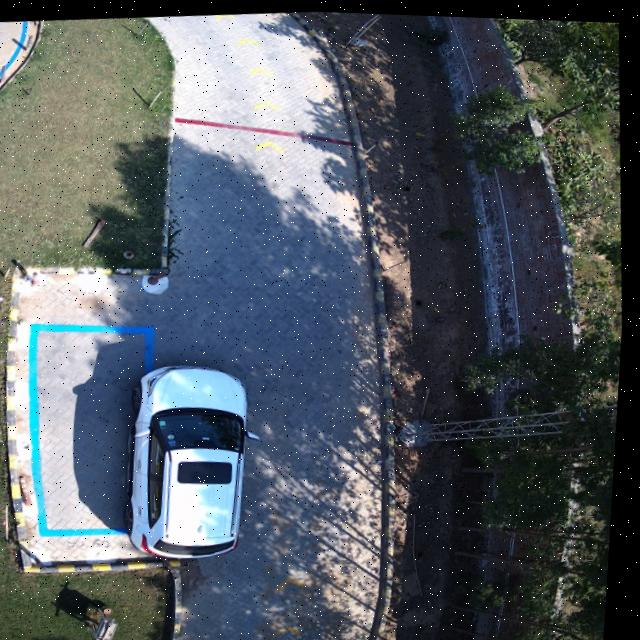car: (131, 364, 259, 556)
